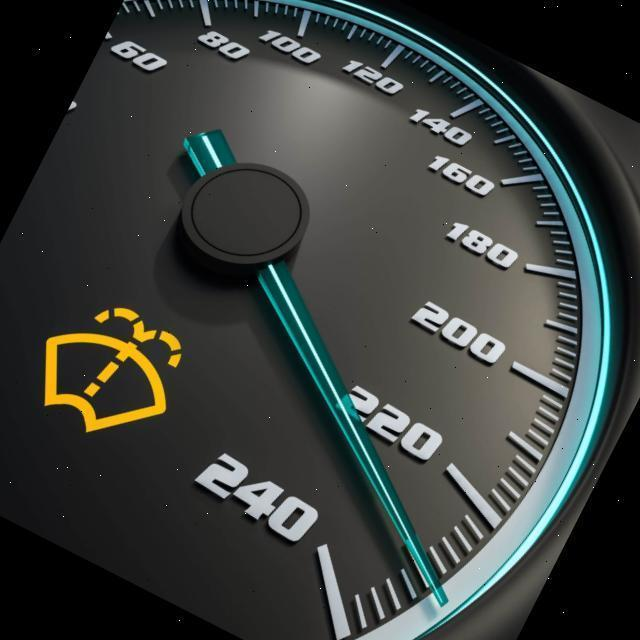Washer Fluid: (44, 306, 182, 434)
